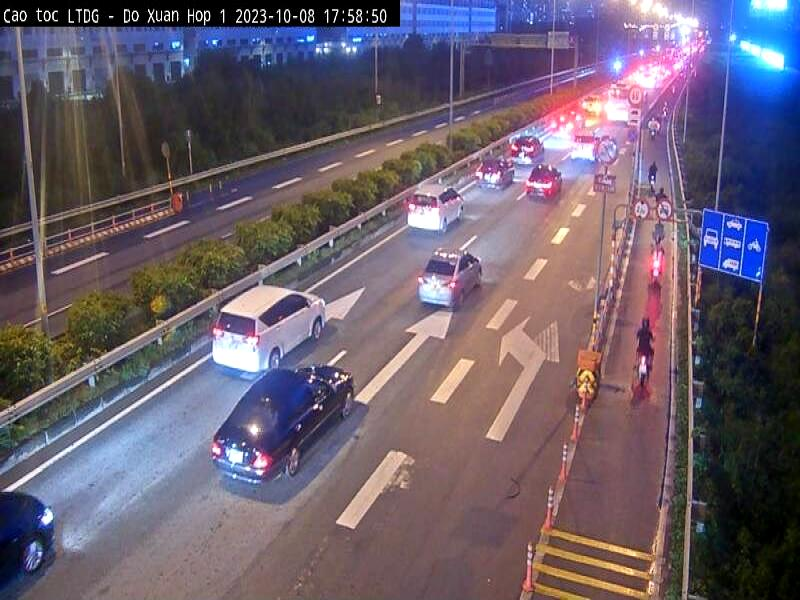car: (210, 367, 353, 484), (211, 287, 326, 380), (0, 489, 57, 595), (418, 248, 482, 310), (406, 189, 469, 234), (524, 164, 563, 204), (474, 157, 514, 192), (512, 135, 544, 164)
